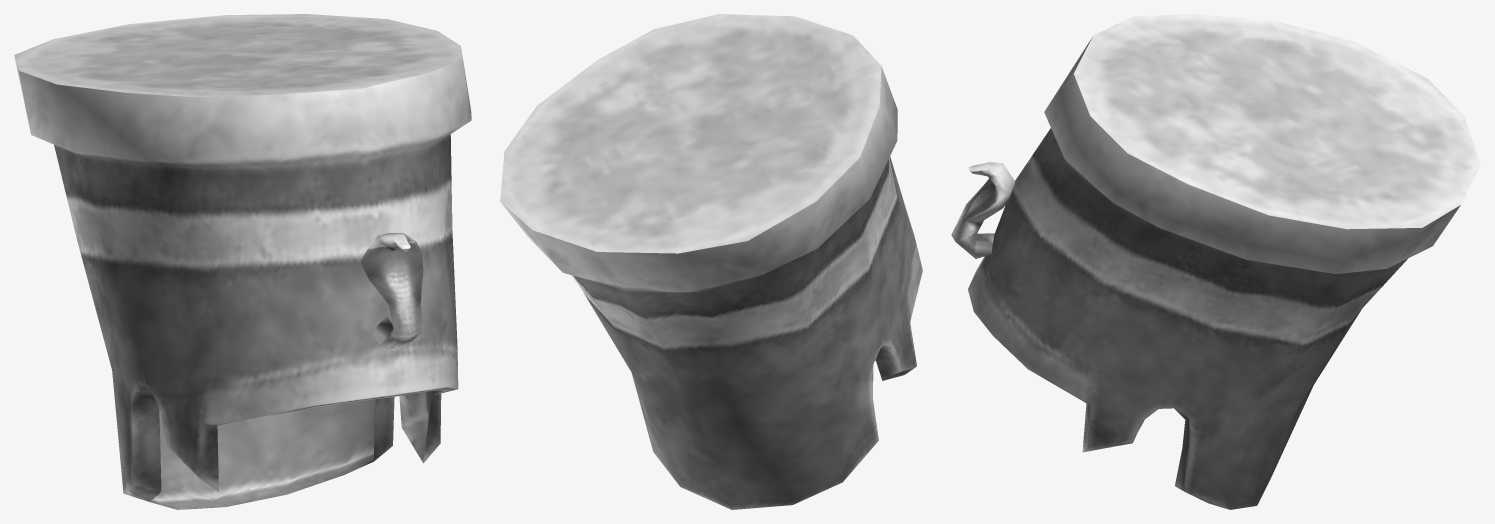
Rendered from rider-helmet-slice-championwarelephants.glb.
3 renders of one model, left to right at view 1: azimuth 30°, elevation 25°; view 2: azimuth 150°, elevation 25°; view 3: azimuth 270°, elevation 25°, orthographic. The views are drawn at different scales.
Size of the model in its own units: 0.2755 by 0.3384 by 0.3786.
1 material, 1 textured.
